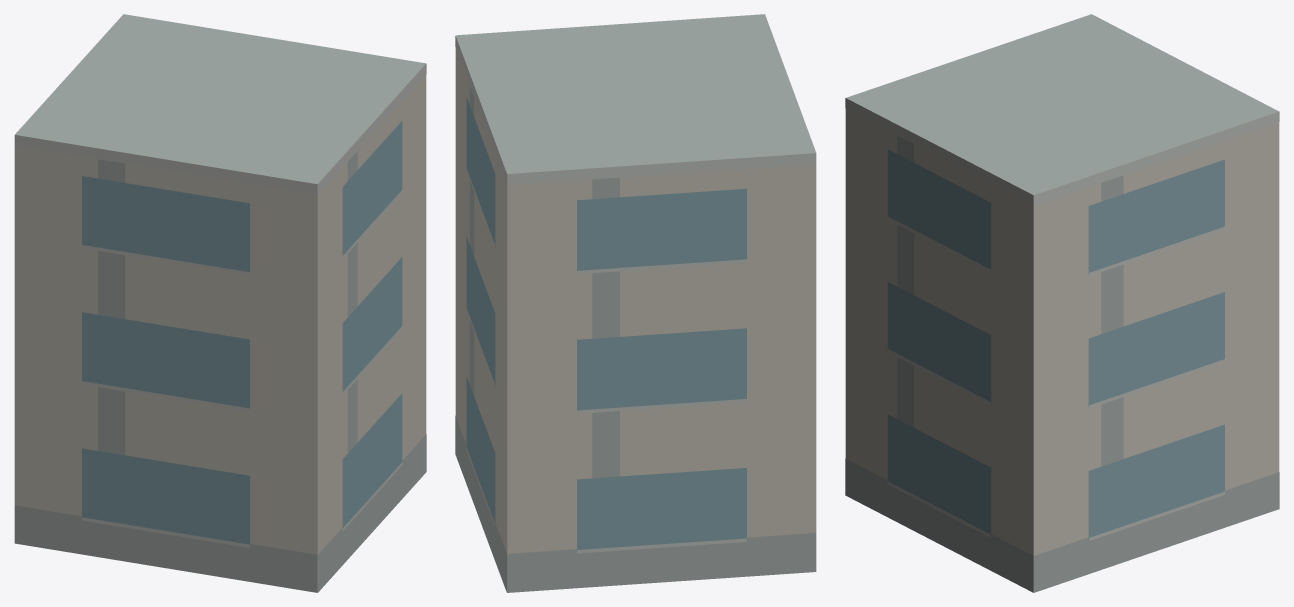
Rendered from survey-upis-32687969.glb.
3 renders of one model, left to right at view 1: azimuth 30°, elevation 25°; view 2: azimuth 150°, elevation 25°; view 3: azimuth 270°, elevation 25°, orthographic. The views are drawn at different scales.
Parts seen in each view (by area): view 1: survey-upis-32687969.tmp; view 2: survey-upis-32687969.tmp; view 3: survey-upis-32687969.tmp.
Boxes of the visible parts, box(x1,y1,x2,y2) form: survey-upis-32687969.tmp: box(14, 14, 426, 592); survey-upis-32687969.tmp: box(455, 14, 816, 592); survey-upis-32687969.tmp: box(845, 14, 1279, 592).
Bounding box in the file's own units: 8.96 × 9.15 × 9.06.
